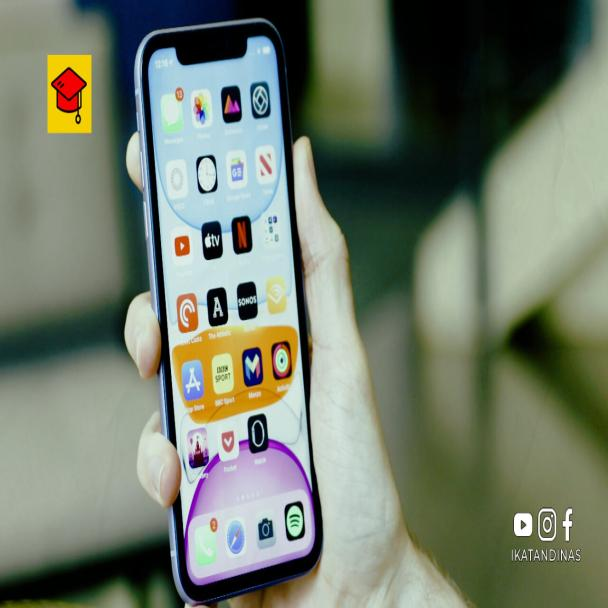Handphone: (132, 18, 322, 591)
